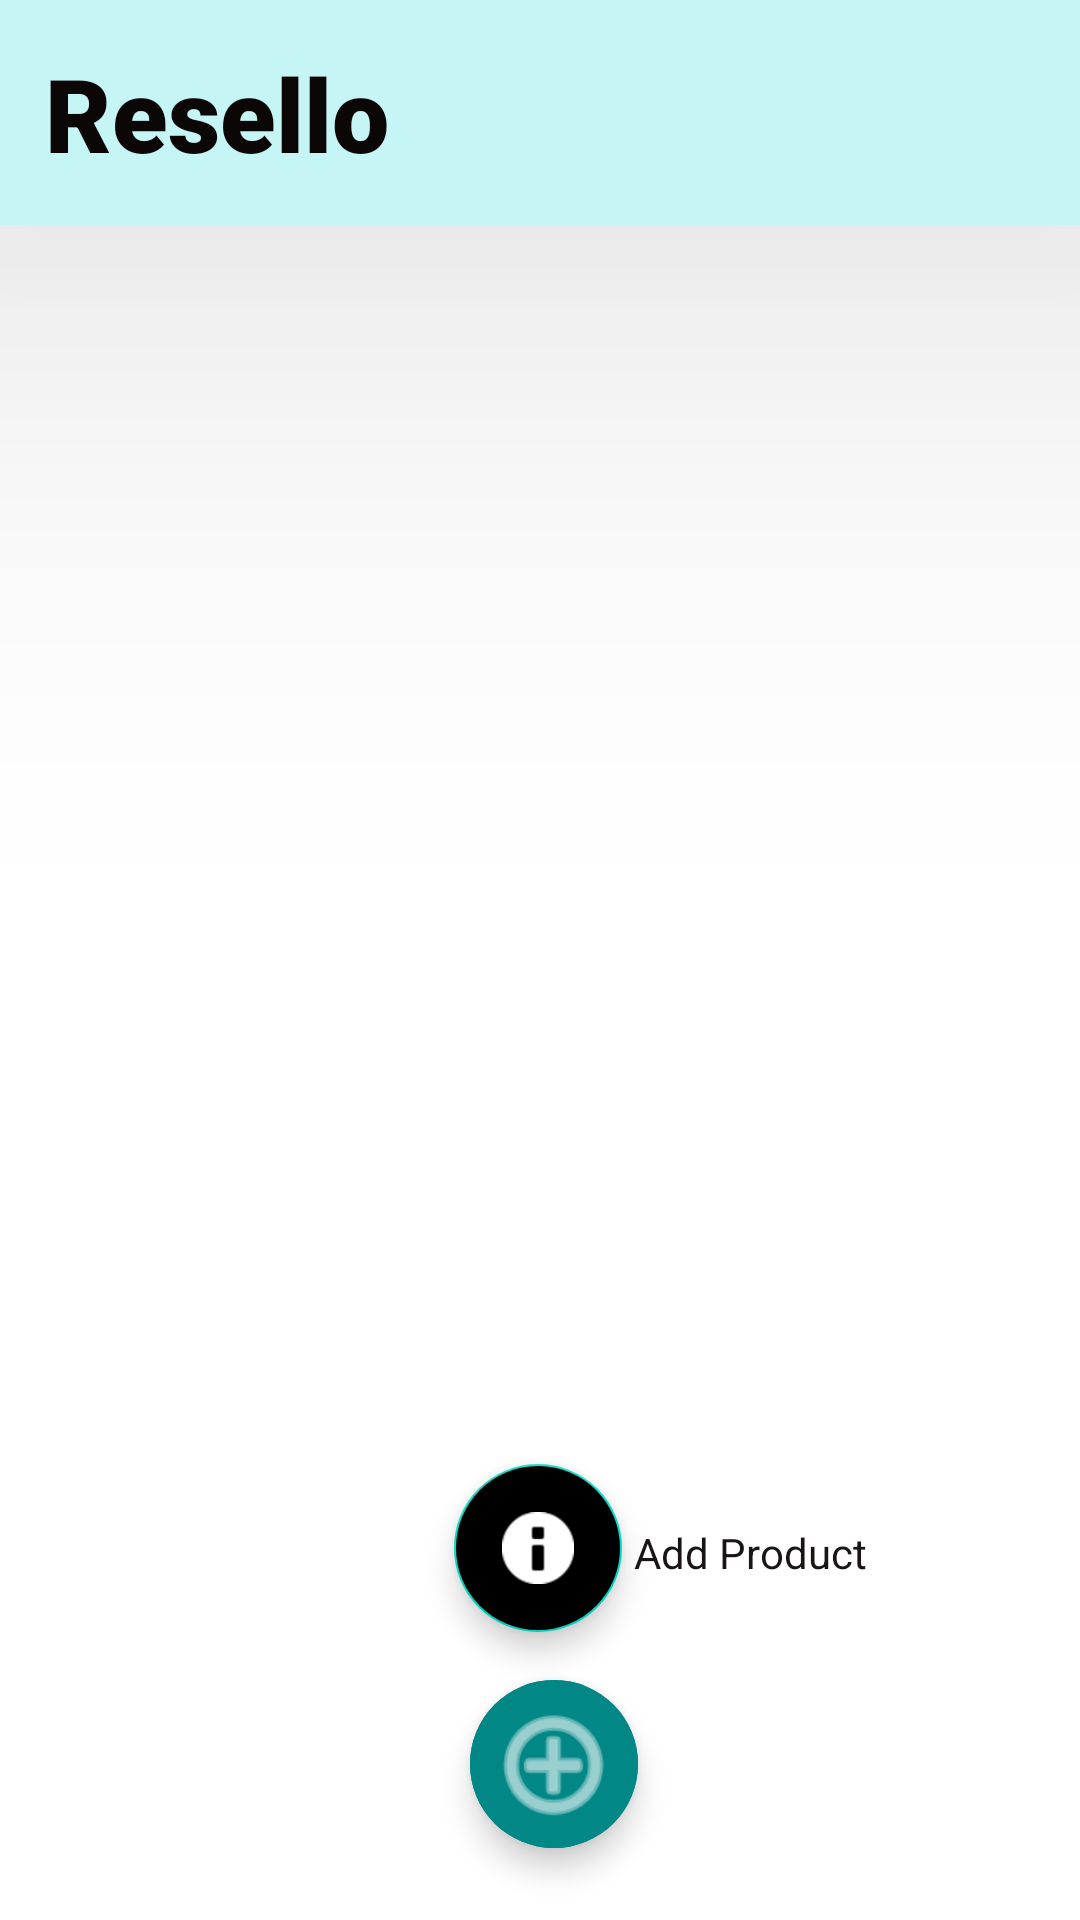

Where icons sit on this 1080 × 1920 app screen, as bbox=[x1, y1, x2, y2]:
info: bbox=[454, 1464, 622, 1632]
